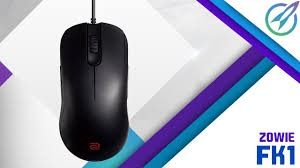mouse: (52, 21, 141, 166)
